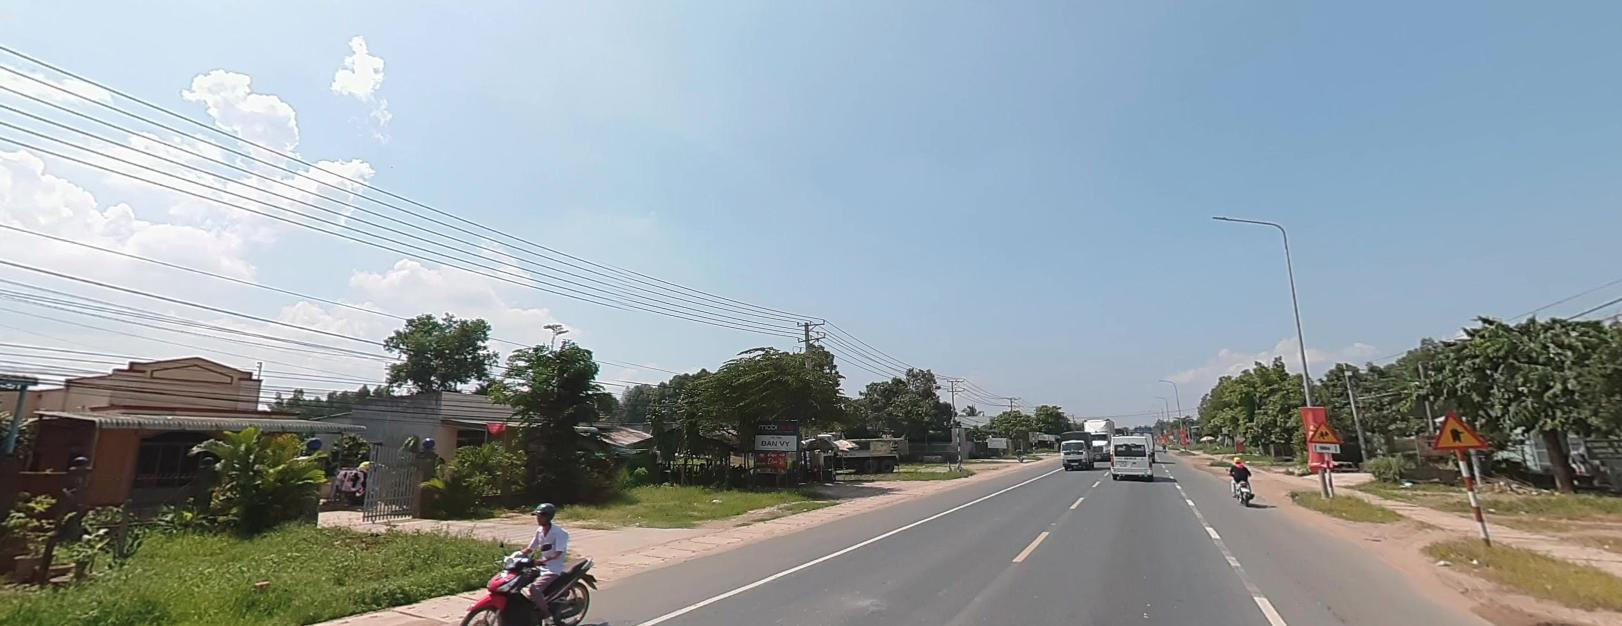Nguy hiem: (1435, 411, 1487, 448), (1309, 422, 1339, 441)
